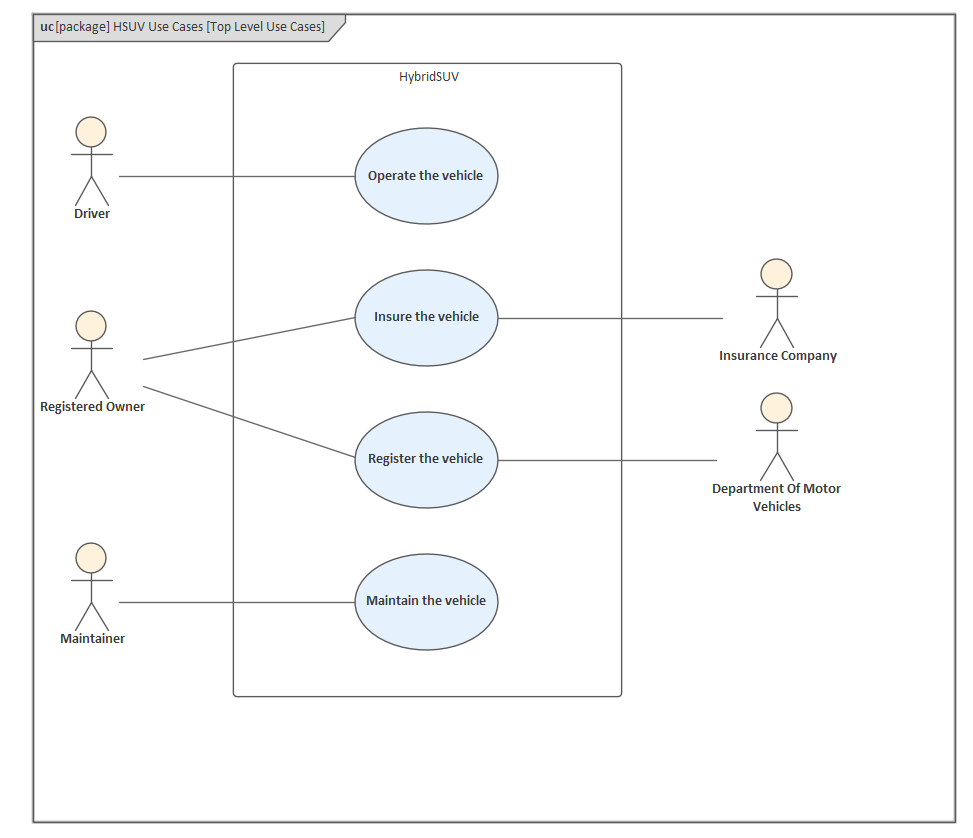actor: (68, 309, 116, 401), (70, 538, 114, 632), (754, 259, 800, 348), (70, 114, 113, 206), (755, 391, 797, 482)
association: (145, 387, 359, 459), (143, 315, 355, 361), (117, 165, 353, 187), (500, 448, 717, 471), (499, 309, 726, 330), (118, 593, 356, 612)
text: (707, 478, 845, 517), (38, 18, 328, 34), (361, 589, 490, 611), (364, 165, 487, 186), (366, 450, 484, 470), (716, 347, 840, 366), (370, 307, 488, 326), (38, 397, 148, 417), (395, 67, 461, 86), (55, 634, 134, 645), (72, 204, 113, 222)
use_case: (353, 552, 500, 653), (352, 126, 500, 226), (352, 268, 500, 368), (353, 409, 499, 510)
